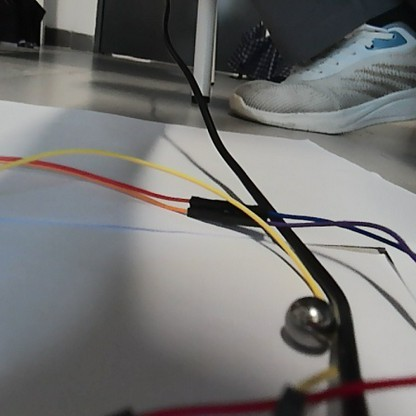ironball: (282, 294, 339, 355)
